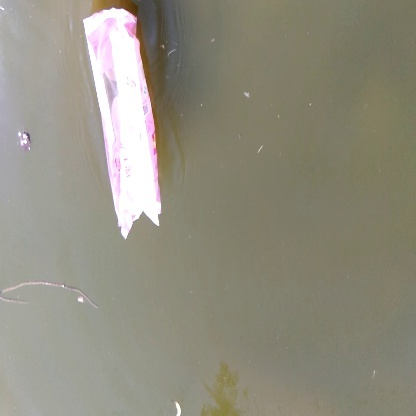plastic-bag: (78, 9, 172, 238)
